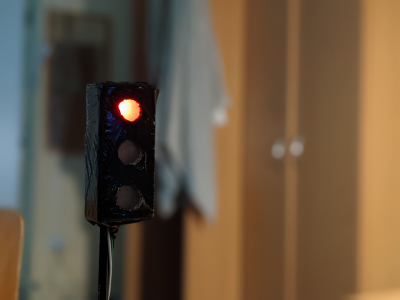trafficlight_red: (99, 84, 156, 221)
